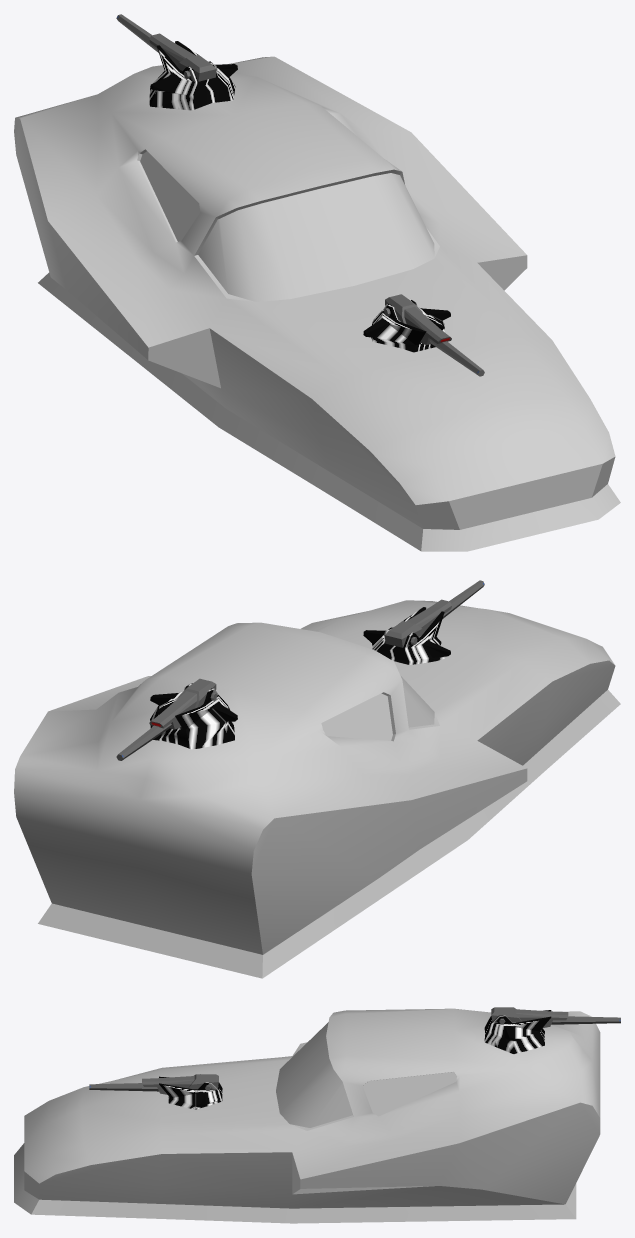
The model's file is MOZ-2.FBX.
3 renders of one model, top to bottom at view 1: azimuth 30°, elevation 25°; view 2: azimuth 150°, elevation 25°; view 3: azimuth 270°, elevation 25°, orthographic. The views are drawn at different scales.
Visible parts, largest first — view 1: Box001, Turel Back, Turel Front, Gunpoint, Gunpoint001; view 2: Box001, Turel Back, Turel Front, Gunpoint001, Gunpoint; view 3: Box001, Turel Back, Gunpoint001, Gunpoint, Turel Front.
Boxes of the visible parts, <box> form: Box001: <box>14,56,620,551</box>; Turel Back: <box>149,41,237,110</box>; Turel Front: <box>363,299,450,352</box>; Gunpoint: <box>384,294,484,376</box>; Gunpoint001: <box>116,14,217,81</box>; Box001: <box>14,600,620,978</box>; Turel Back: <box>150,683,237,749</box>; Turel Front: <box>363,607,450,664</box>; Gunpoint001: <box>116,678,217,760</box>; Gunpoint: <box>384,580,484,647</box>; Box001: <box>14,1008,600,1223</box>; Turel Back: <box>484,1010,551,1053</box>; Gunpoint001: <box>491,1007,620,1027</box>; Gunpoint: <box>89,1074,218,1094</box>; Turel Front: <box>159,1076,222,1109</box>.
Size of what is drawn, in the model's own units: 220 by 128 by 416.
